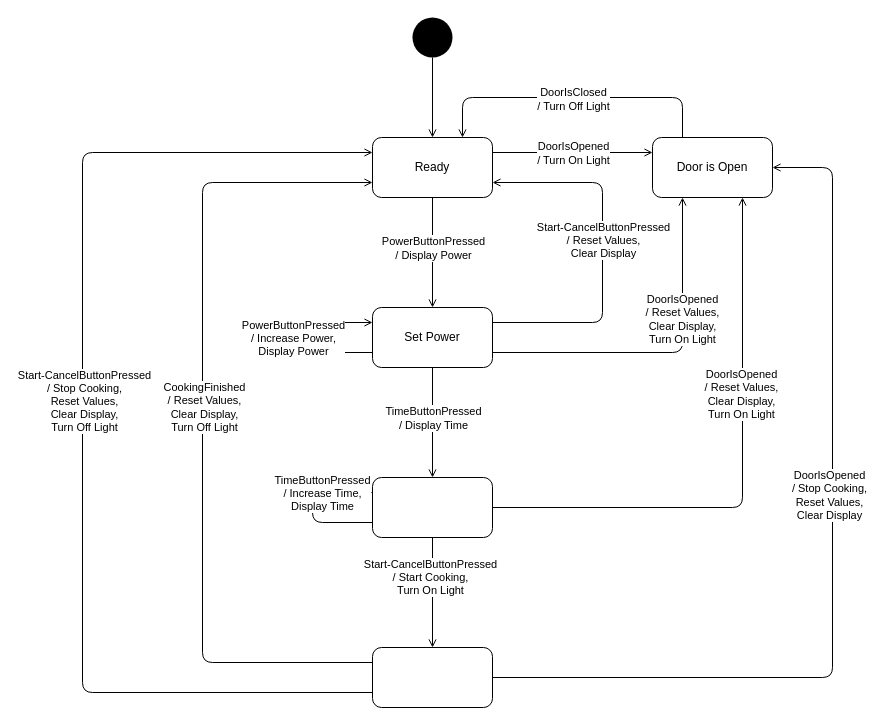
The diagram is 884 pixels wide and 725 high, and some of its shapes have lost their labels. Each missing label, with the centre of its shape:
"Cooking" belongs at (432,677).
"Set Time" belongs at (432,507).
